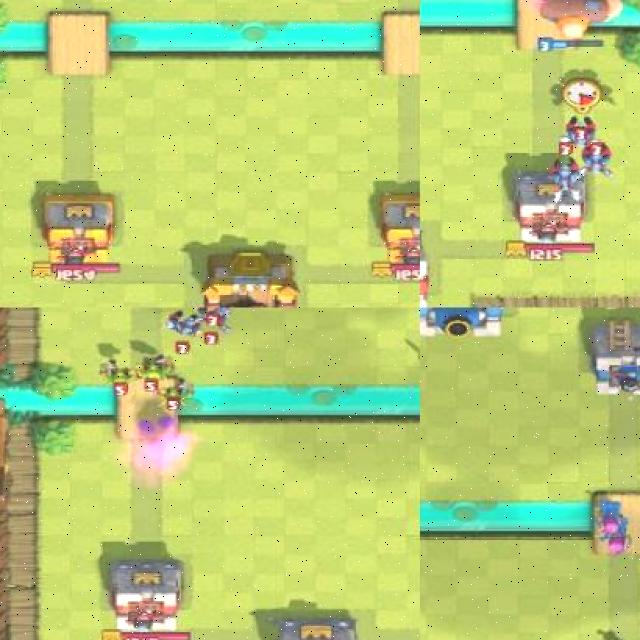Enemy-Goblin: (150, 374, 198, 414), (96, 354, 141, 396), (134, 352, 176, 391)
Enemy-Minion: (547, 141, 589, 202), (164, 308, 208, 358), (573, 140, 618, 183), (556, 114, 604, 150), (193, 308, 236, 347), (197, 307, 234, 328)
Player-Archer: (596, 516, 637, 558), (588, 498, 630, 538)
Player-Giant: (520, 0, 630, 55)
